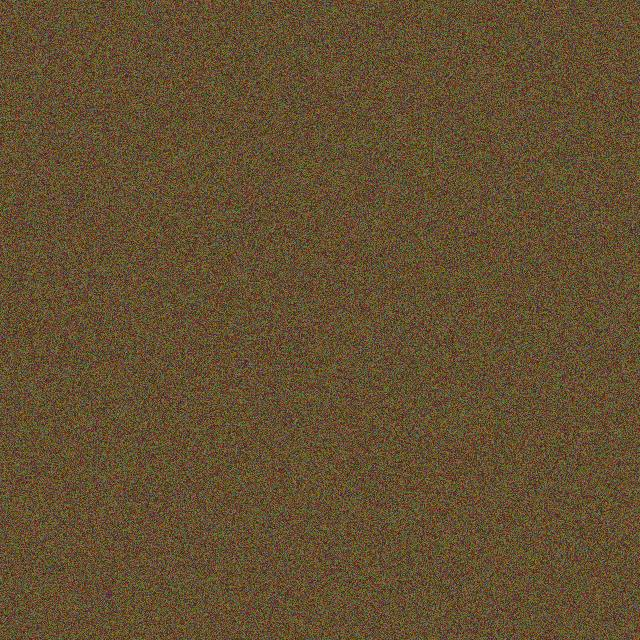human: (264, 317, 372, 371)
